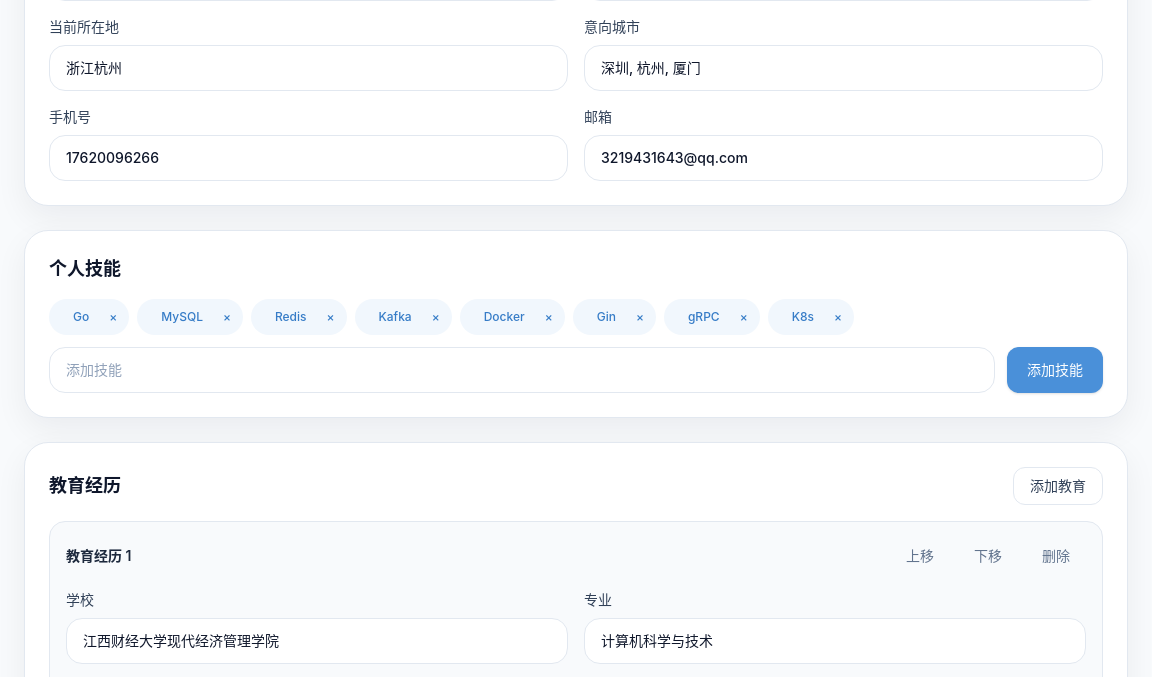
Test: edit page › adds a new skill tag and removes an existing one
(page scrolled)
Click the button named "删除技能 Go": (113, 317) [109, 309, 117, 325]
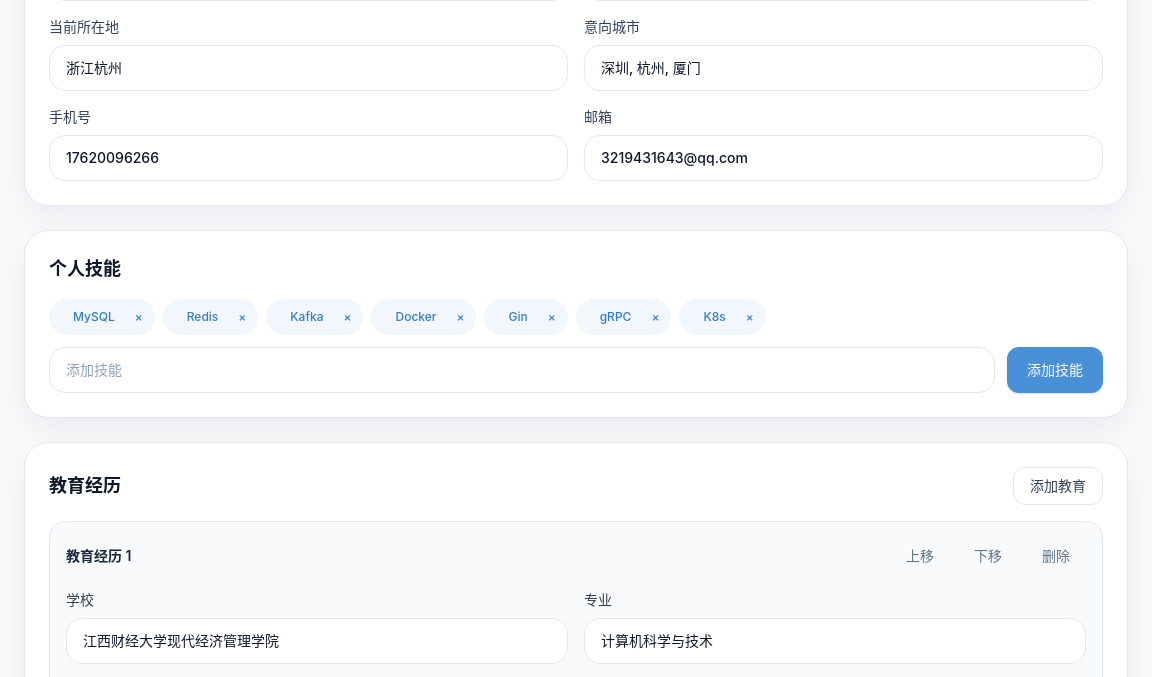
Expected: the text "Go" is gone
In the field with placeholder "添加技能": (522, 370) [49, 347, 995, 393], type "DDD"
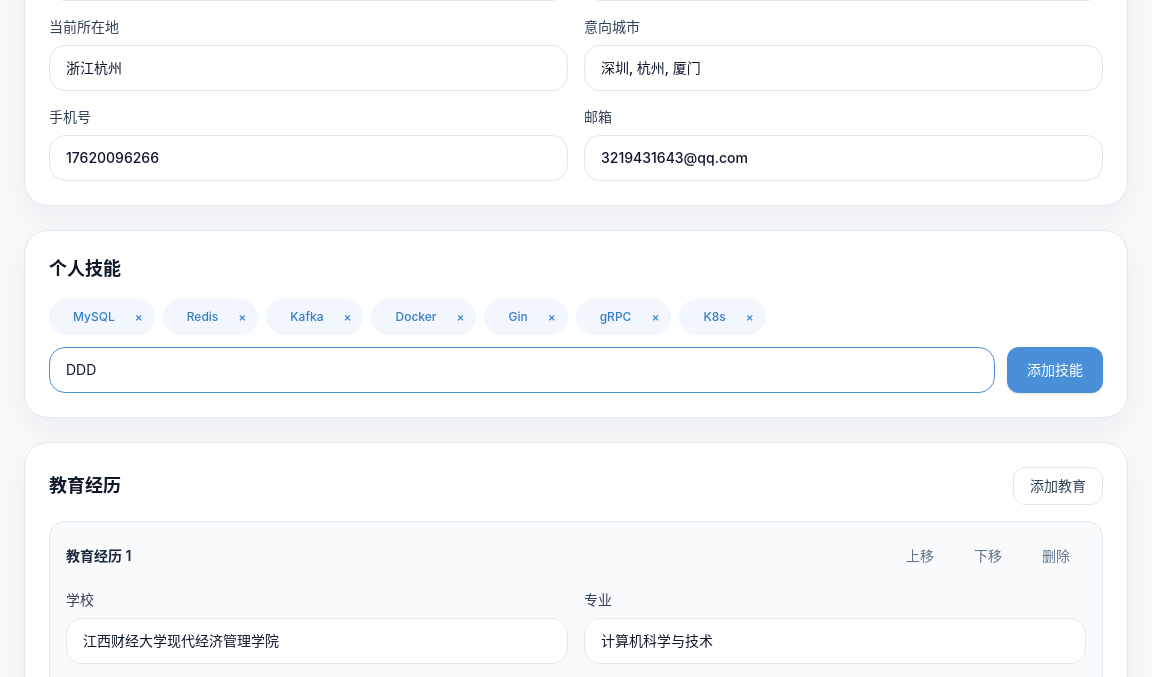
Click the button "添加技能": (1055, 370) [1007, 347, 1103, 393]
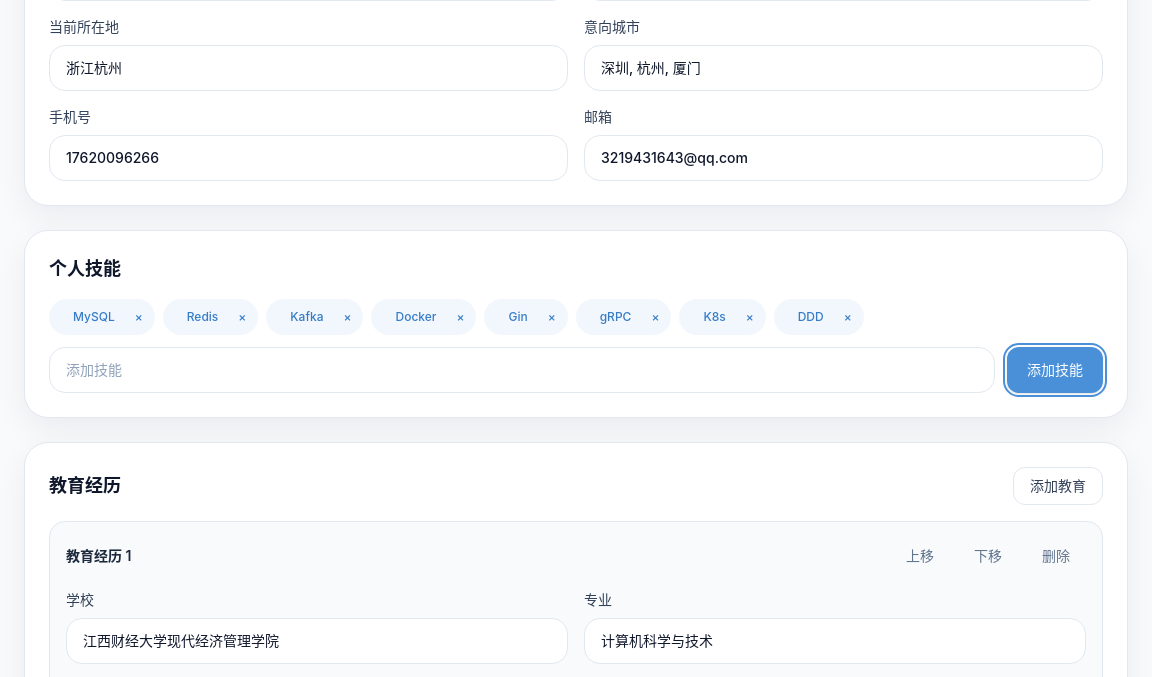
Expected: the text "DDD" is shown, [798, 309, 824, 324]
